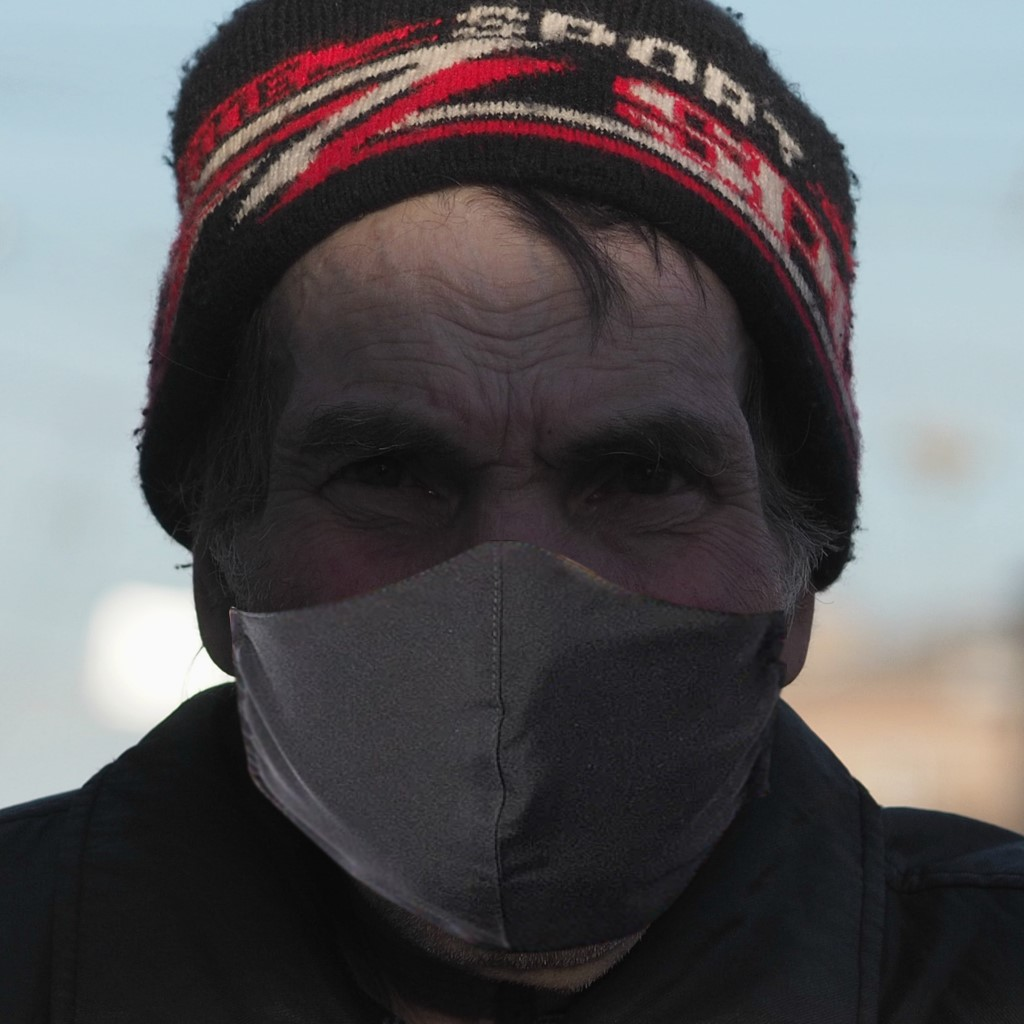con_mascara: (137, 167, 816, 944)
